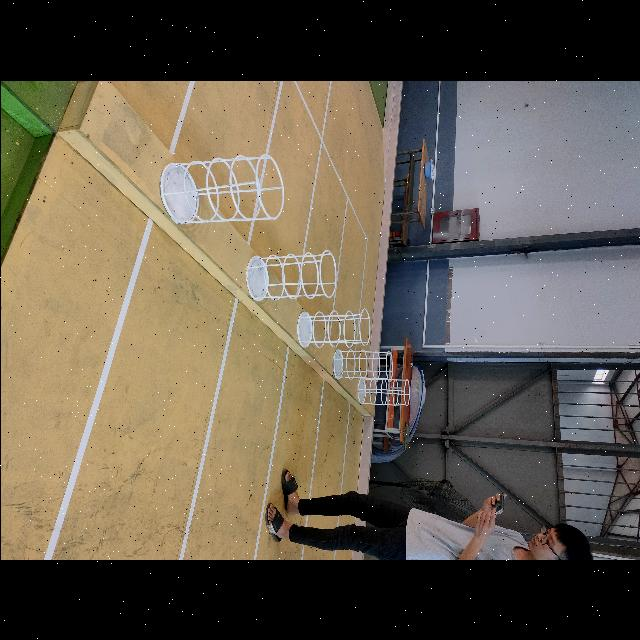S: (160, 152, 284, 224), (245, 249, 337, 301), (295, 308, 371, 348), (331, 349, 392, 381), (357, 378, 410, 406)
